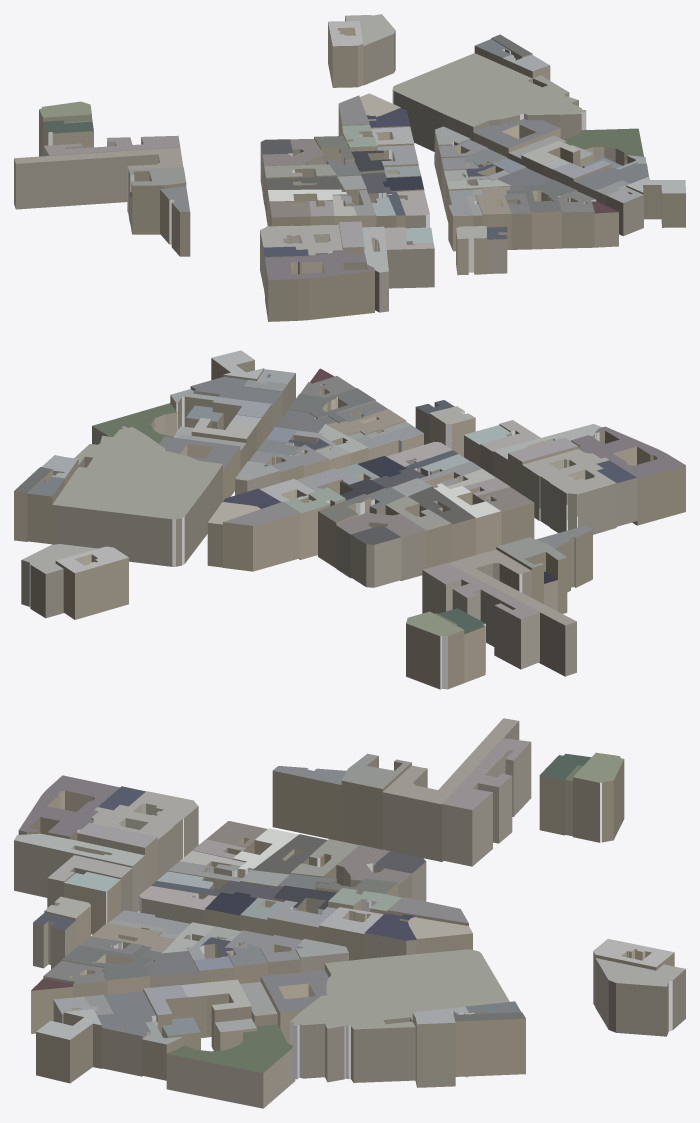
3 renders of one model, top to bottom at view 1: azimuth 30°, elevation 25°; view 2: azimuth 150°, elevation 25°; view 3: azimuth 270°, elevation 25°, orthographic. The views are drawn at different scales.
Visible parts, largest first — view 1: tuile; view 2: tuile; view 3: tuile.
Part boxes in pixels (box(x1,y1,x2,y2)): tuile: box(14, 14, 685, 321); tuile: box(14, 350, 685, 689); tuile: box(14, 718, 685, 1108).
Size of the model in its own units: 315 by 31.84 by 275.
